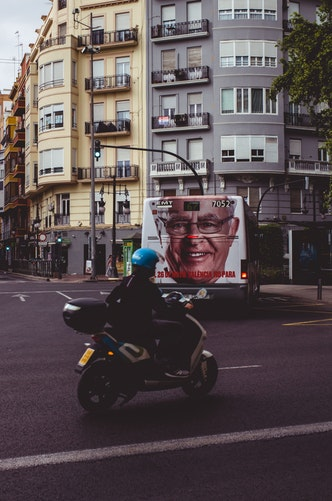helmet: (130, 246, 166, 273)
